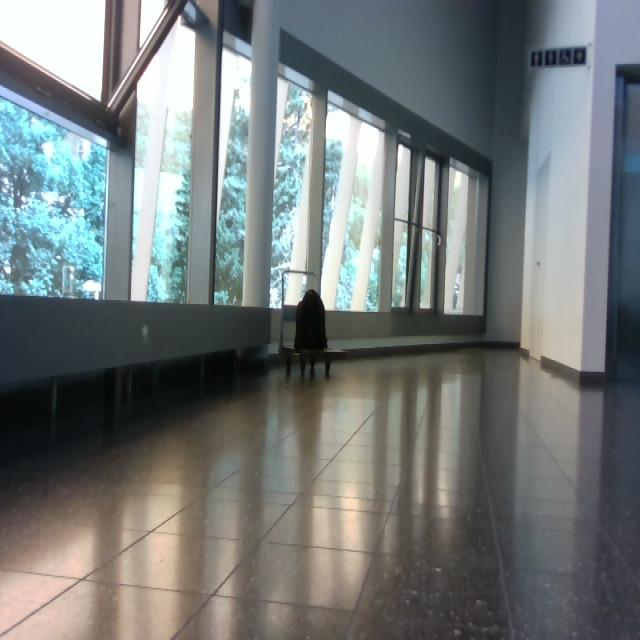door: (606, 64, 640, 384)
light bulb: (42, 141, 54, 158), (142, 324, 149, 337)
person: (294, 289, 331, 378)
pillar: (241, 1, 282, 308)
staircase: (278, 269, 347, 380)
tiled floor: (2, 345, 639, 638)
window: (1, 86, 110, 300), (321, 90, 387, 313), (444, 157, 489, 317)
